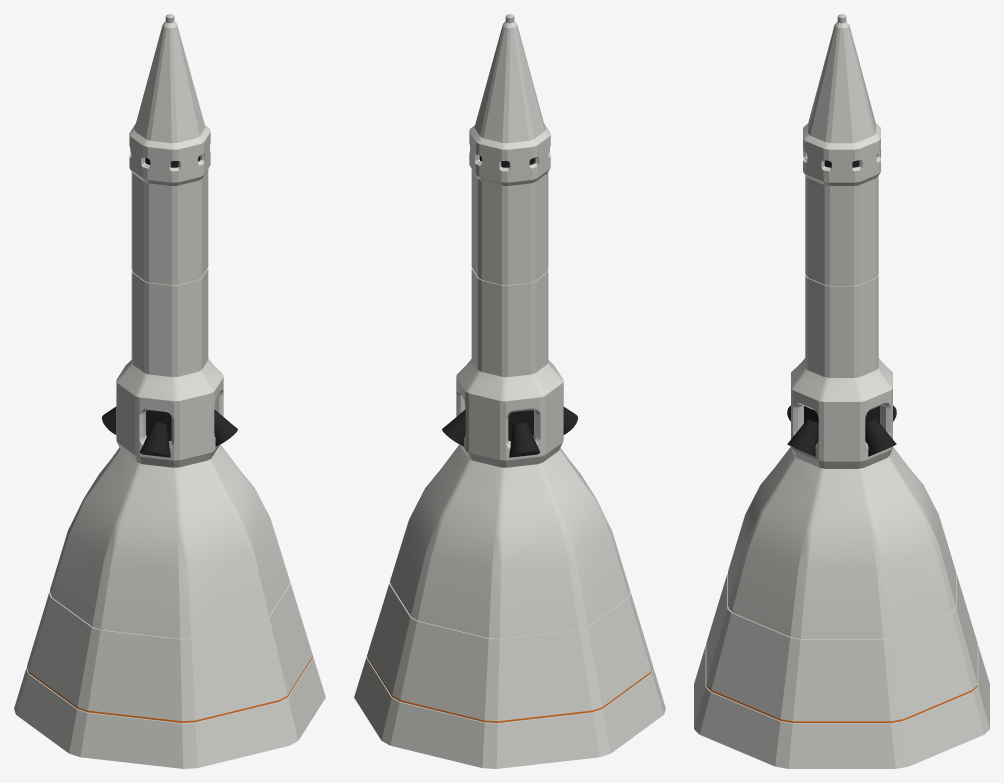
Rendered from ax_cmd_14_launch_escape_tower.glb.
3 views of the same model, side by side, from view 1: azimuth 30°, elevation 25°; view 2: azimuth 150°, elevation 25°; view 3: azimuth 270°, elevation 25° (orthographic).
Parts seen in each view (by area): view 1: boost_cover, tower, abort_nozzles, orange_stripes; view 2: boost_cover, tower, abort_nozzles, orange_stripes; view 3: boost_cover, tower, abort_nozzles, orange_stripes.
Part boxes in pixels (bbox=[...]): boost_cover: bbox=[14, 444, 325, 768]; tower: bbox=[116, 21, 223, 467]; abort_nozzles: bbox=[102, 406, 237, 457]; orange_stripes: bbox=[27, 656, 312, 722]; boost_cover: bbox=[354, 444, 665, 768]; tower: bbox=[456, 21, 563, 467]; abort_nozzles: bbox=[442, 407, 577, 457]; orange_stripes: bbox=[367, 656, 652, 722]; boost_cover: bbox=[694, 447, 989, 768]; tower: bbox=[791, 22, 892, 468]; abort_nozzles: bbox=[787, 405, 896, 456]; orange_stripes: bbox=[706, 685, 977, 722].
Size of the model in its own units: 2.43 by 6.28 by 2.43.
5 materials, 2 textured.
